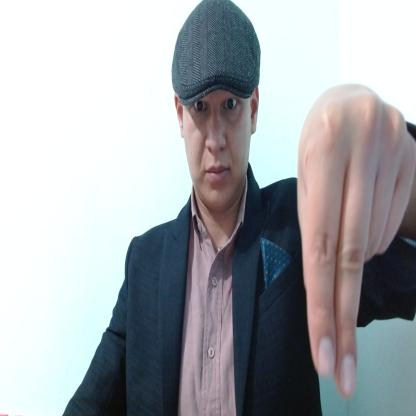N: (297, 85, 415, 397)
